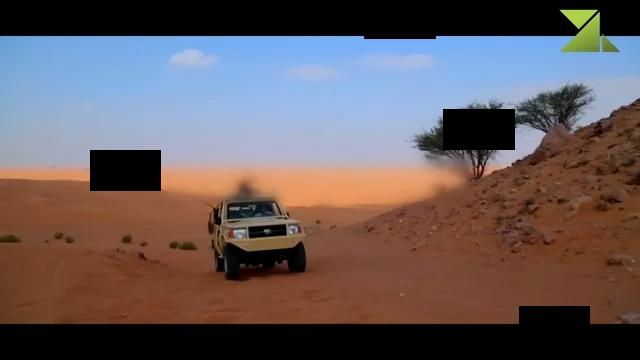MIL_HMMWV: (208, 198, 306, 280)
